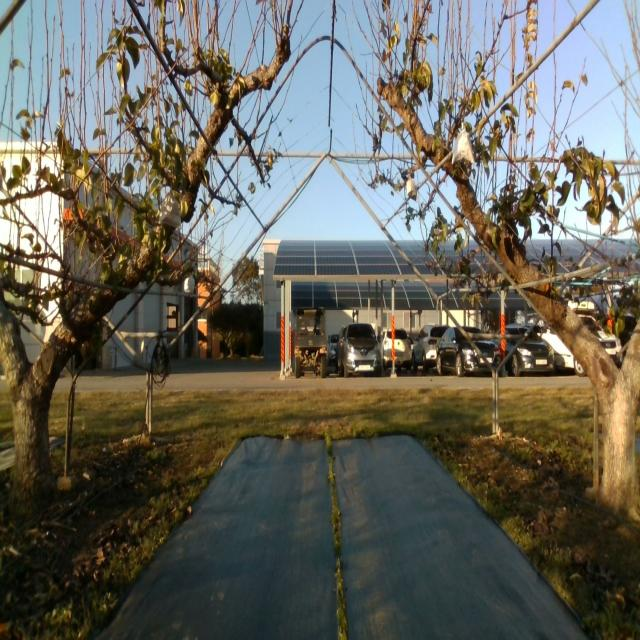pearbags: (158, 188, 182, 230), (452, 122, 474, 163), (407, 177, 418, 202)
